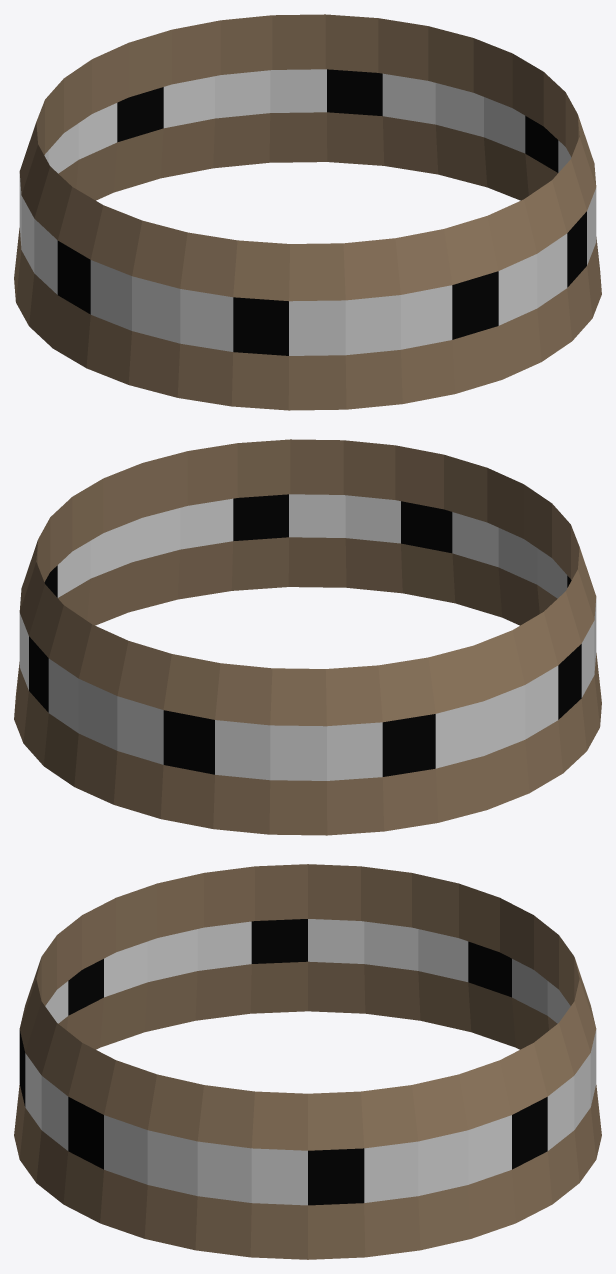
File: HEADBAND.fbx
3 renders of one model, top to bottom at view 1: azimuth 30°, elevation 25°; view 2: azimuth 150°, elevation 25°; view 3: azimuth 270°, elevation 25°, orthographic.
Visible parts, largest first — view 1: Sphere; view 2: Sphere; view 3: Sphere.
Boxes of the visible parts, x1=… form: Sphere: x1=14, y1=14, x2=601, y2=410; Sphere: x1=14, y1=439, x2=601, y2=835; Sphere: x1=14, y1=864, x2=601, y2=1259.
Bounding box in the file's own units: 200 × 58.8 × 200.
